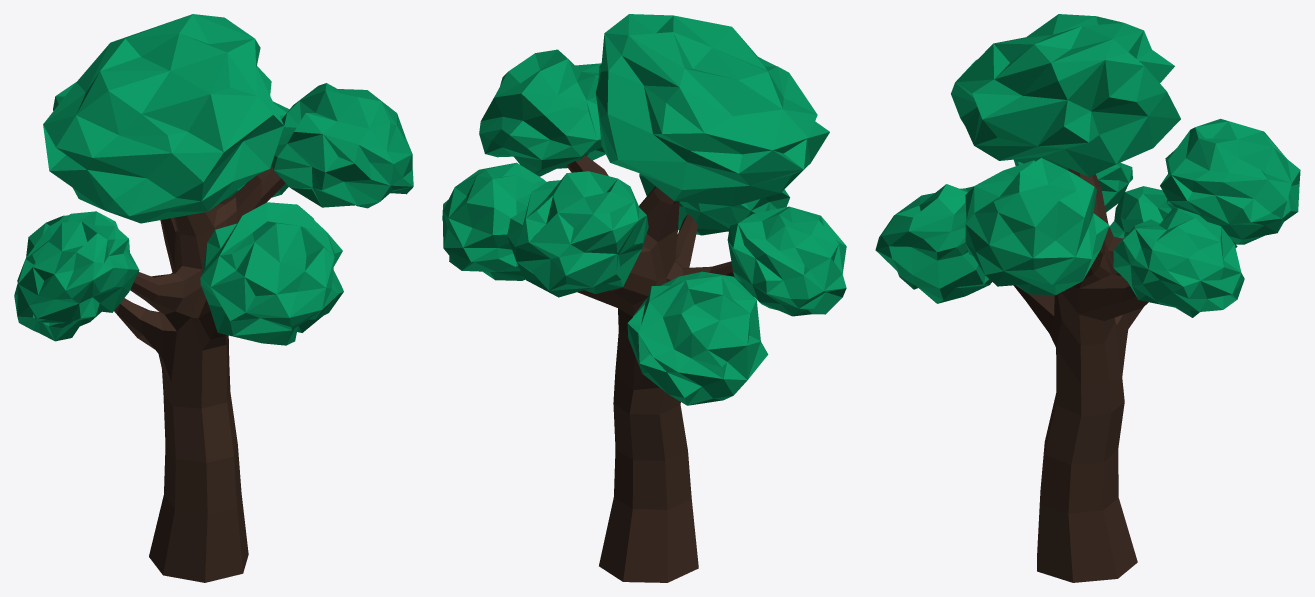
The model's file is tree1GGJ.fbx.
The picture shows the model from 3 angles, left to right: view 1: azimuth 30°, elevation 25°; view 2: azimuth 150°, elevation 25°; view 3: azimuth 270°, elevation 25°; orthographic projection.
Visible parts, largest first — view 1: Icosphere.001, Cylinder, Icosphere.002, Icosphere.003, Icosphere.004, Icosphere.006; view 2: Icosphere.001, Cylinder, Icosphere.006, Icosphere, Icosphere.003, Icosphere.004, Icosphere.005, Icosphere.002; view 3: Icosphere.001, Cylinder, Icosphere.003, Icosphere, Icosphere.005, Icosphere.002, Icosphere.006, Icosphere.004.
Part boxes in pixels (box(x1,y1,x2,y2)): Icosphere.001: box(43, 14, 283, 223); Cylinder: box(114, 165, 285, 582); Icosphere.002: box(200, 202, 343, 345); Icosphere.003: box(271, 83, 413, 208); Icosphere.004: box(17, 211, 139, 323); Icosphere.006: box(14, 215, 129, 341); Icosphere.001: box(595, 14, 829, 206); Cylinder: box(567, 155, 734, 582); Icosphere.006: box(627, 271, 768, 405); Icosphere: box(507, 171, 648, 297); Icosphere.003: box(479, 49, 605, 176); Icosphere.004: box(727, 206, 846, 316); Icosphere.005: box(442, 162, 546, 280); Icosphere.002: box(639, 173, 789, 235); Icosphere.001: box(951, 14, 1180, 176); Cylinder: box(1013, 168, 1148, 582); Icosphere.003: box(965, 158, 1109, 295); Icosphere: box(1160, 118, 1300, 244); Icosphere.005: box(1113, 207, 1244, 317); Icosphere.002: box(875, 184, 991, 303); Icosphere.006: box(1109, 186, 1237, 247); Icosphere.004: box(1014, 160, 1132, 212).
Bounding box in the file's own units: 498 × 699 × 511.
